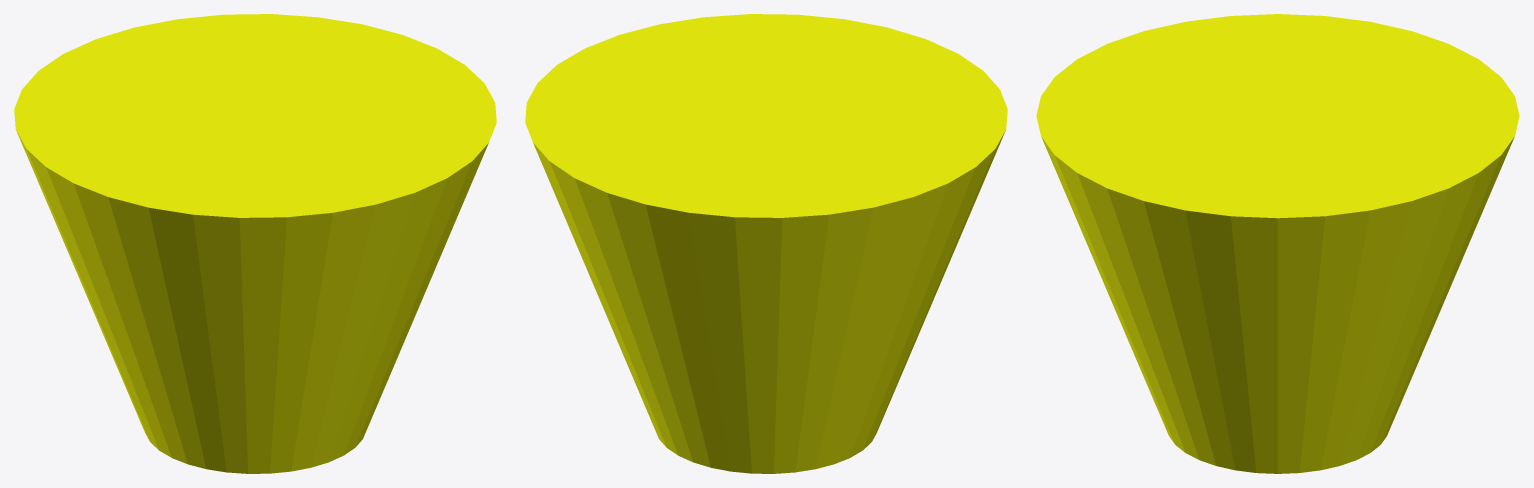
File: Tank_Fill.gltf
The picture shows the model from 3 angles, left to right: view 1: azimuth 30°, elevation 25°; view 2: azimuth 150°, elevation 25°; view 3: azimuth 270°, elevation 25°; orthographic projection.
Visible parts, largest first — view 1: Tank_Balls_level; view 2: Tank_Balls_level; view 3: Tank_Balls_level.
Part boxes in pixels (x1=…): Tank_Balls_level: x1=14, y1=14, x2=496, y2=473; Tank_Balls_level: x1=525, y1=14, x2=1007, y2=473; Tank_Balls_level: x1=1036, y1=14, x2=1519, y2=473.
Size of the model in its own units: 4.2 by 2.98 by 4.2.
